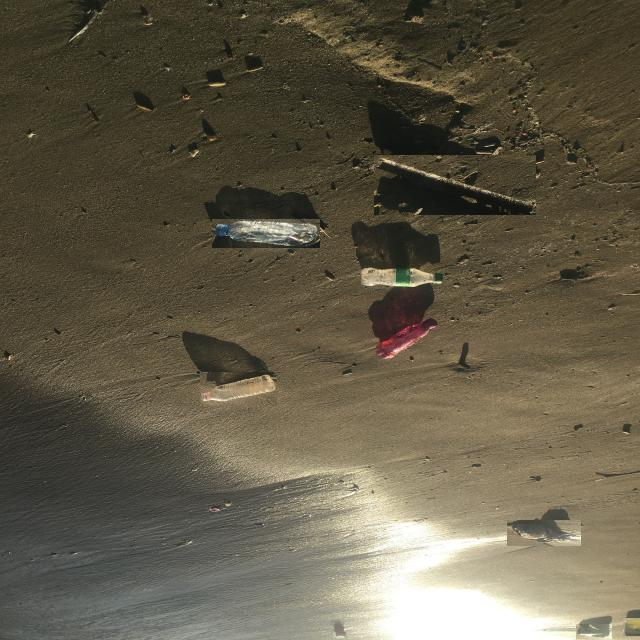Bottle cap: (208, 506, 220, 514), (333, 632, 347, 638)
Can: (576, 624, 612, 640)
Plastic bottle: (212, 219, 320, 248), (373, 316, 439, 360), (200, 372, 277, 406), (358, 265, 445, 290)
Plastic cup: (623, 618, 640, 636)
Undefined trash: (507, 520, 581, 546)
Wood: (374, 155, 536, 215)
